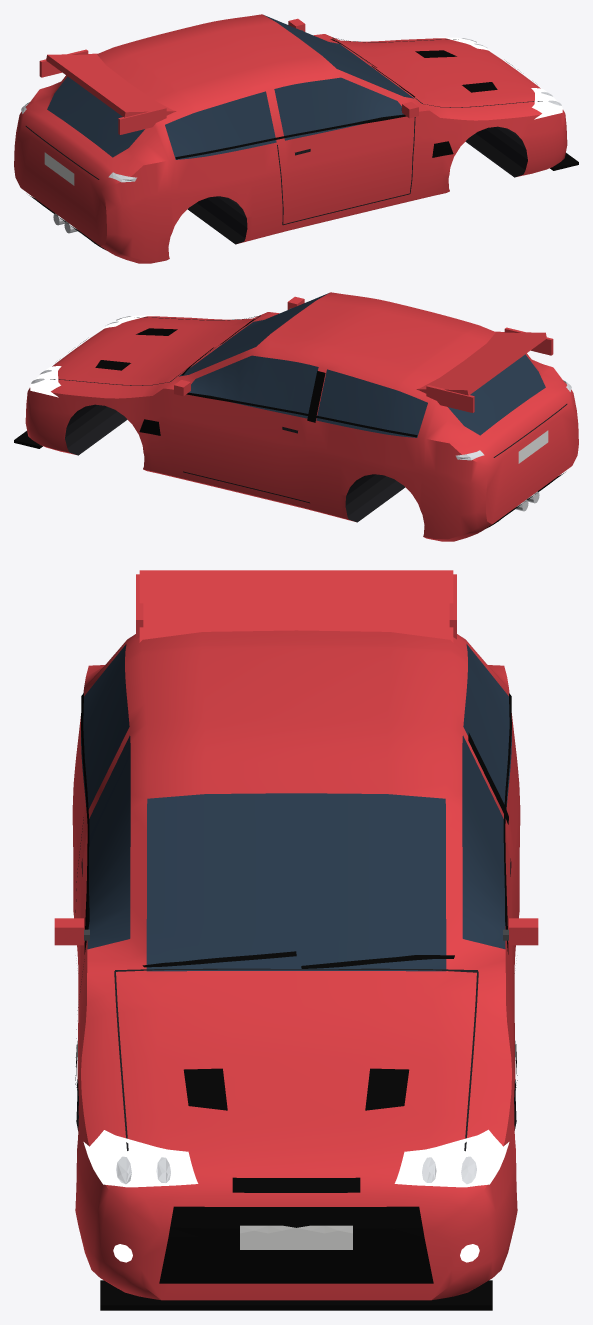
The model's file is ford-focus-rs-mk2.glb.
3 renders of one model, top to bottom at view 1: azimuth 30°, elevation 25°; view 2: azimuth 150°, elevation 25°; view 3: azimuth 270°, elevation 25°, orthographic. The views are drawn at different scales.
Parts seen in each view (by area): view 1: ford-focus-rs-mk2; view 2: ford-focus-rs-mk2; view 3: ford-focus-rs-mk2.
Boxes of the visible parts, x1=… form: ford-focus-rs-mk2: x1=14, y1=14, x2=578, y2=263; ford-focus-rs-mk2: x1=14, y1=292, x2=578, y2=541; ford-focus-rs-mk2: x1=54, y1=570, x2=538, y2=1310.
Size of the model in its own units: 4.44 by 1.39 by 1.97.
